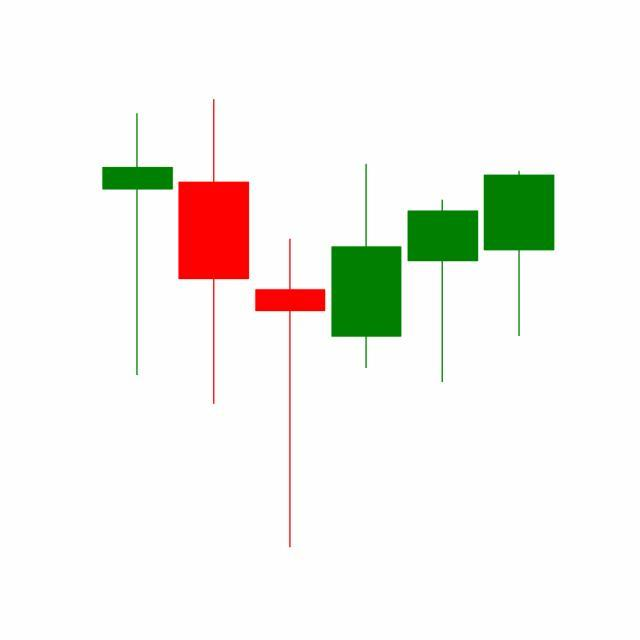Three Outside Up-Down: (252, 160, 482, 549)
